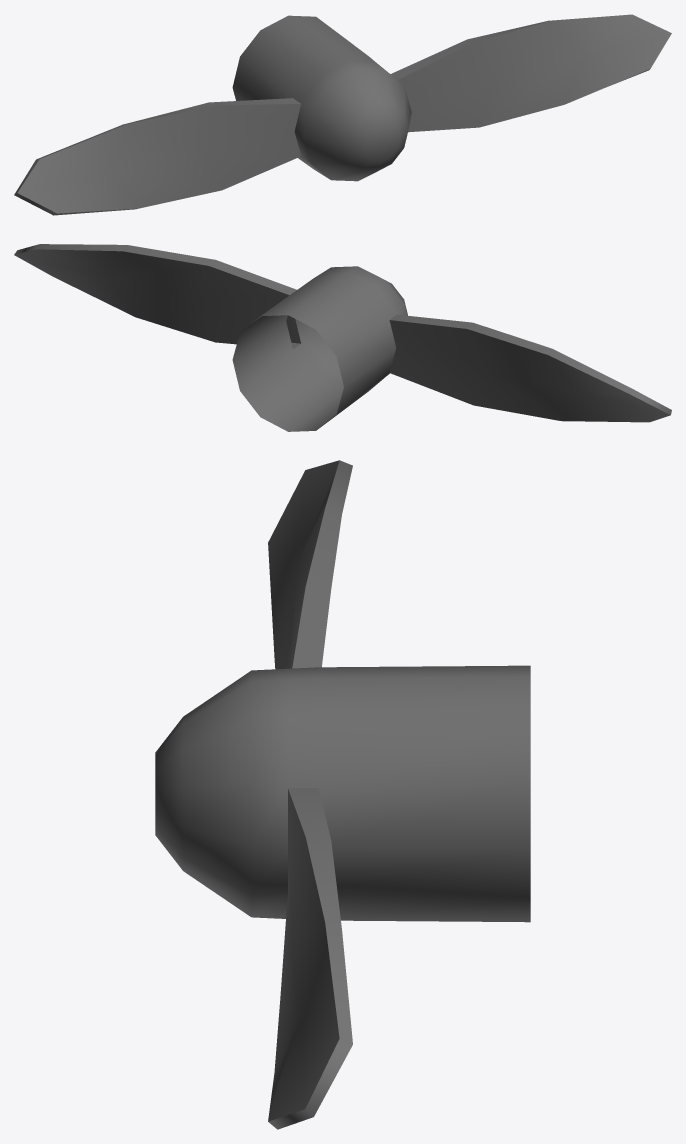
The model's file is Propeller.fbx.
3 views of the same model, one above another, from view 1: azimuth 30°, elevation 25°; view 2: azimuth 150°, elevation 25°; view 3: azimuth 270°, elevation 25° (orthographic). The views are drawn at different scales.
Visible parts, largest first — view 1: Propeller; view 2: Propeller; view 3: Propeller.
Boxes of the visible parts, x1,y1,x2,y2 form: Propeller: (14,14,671,215); Propeller: (14,244,671,431); Propeller: (155,460,530,1129).
Size of the model in its own units: 134 by 22.78 by 33.2.
1 material, 1 textured.
